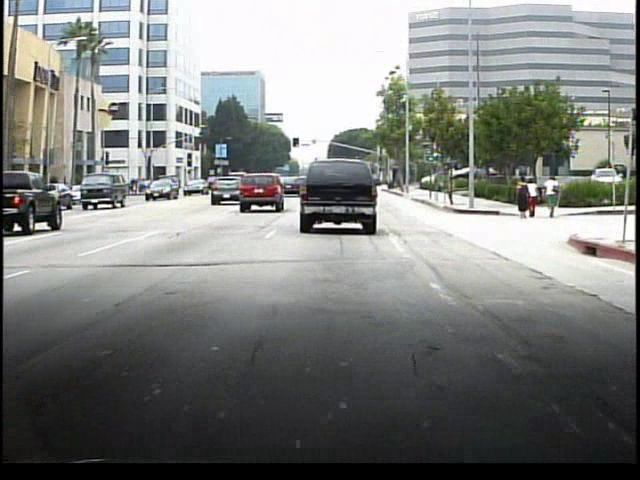person: (541, 175, 560, 220), (513, 175, 528, 221), (527, 180, 540, 222)
